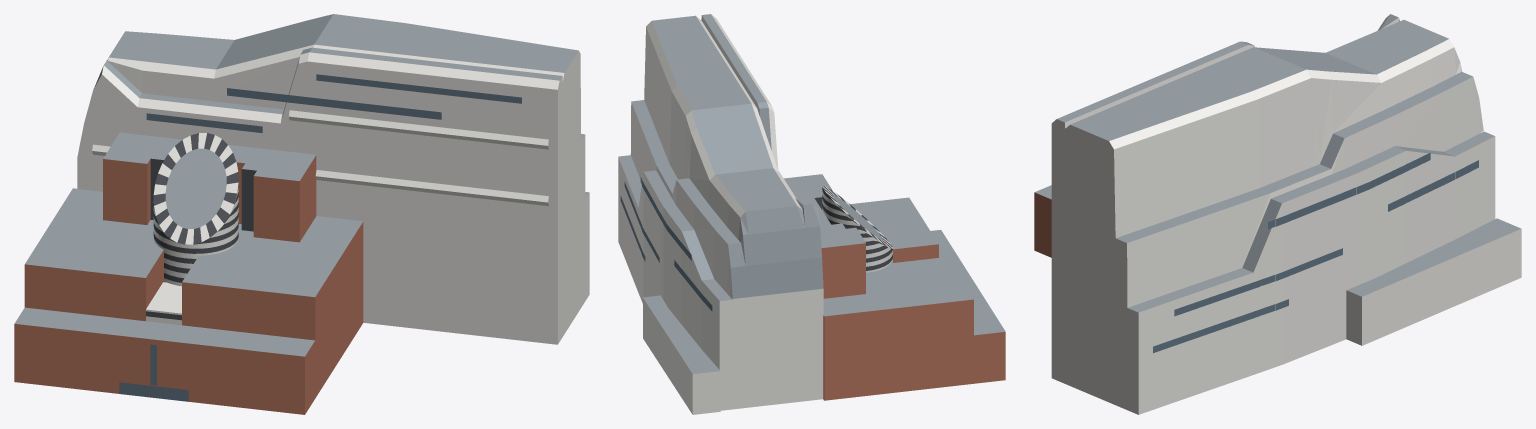
File: detail.glb
3 renders of one model, left to right at view 1: azimuth 30°, elevation 25°; view 2: azimuth 150°, elevation 25°; view 3: azimuth 270°, elevation 25°, orthographic. The views are drawn at different scales.
Parts seen in each view (by area): view 1: san-francisco-museum-of-modern-art; view 2: san-francisco-museum-of-modern-art; view 3: san-francisco-museum-of-modern-art.
Part boxes in pixels (x1,y1,x2,y2): san-francisco-museum-of-modern-art: (14,14,589,414); san-francisco-museum-of-modern-art: (618,14,1005,414); san-francisco-museum-of-modern-art: (1034,14,1521,414).
Bounding box in the file's own units: 130 × 62.3 × 105.
